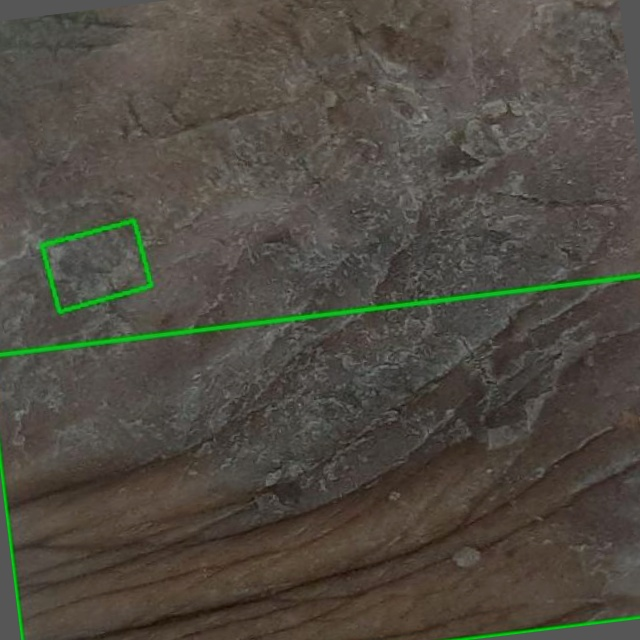Eczema: (0, 276, 639, 639), (40, 219, 151, 310)
